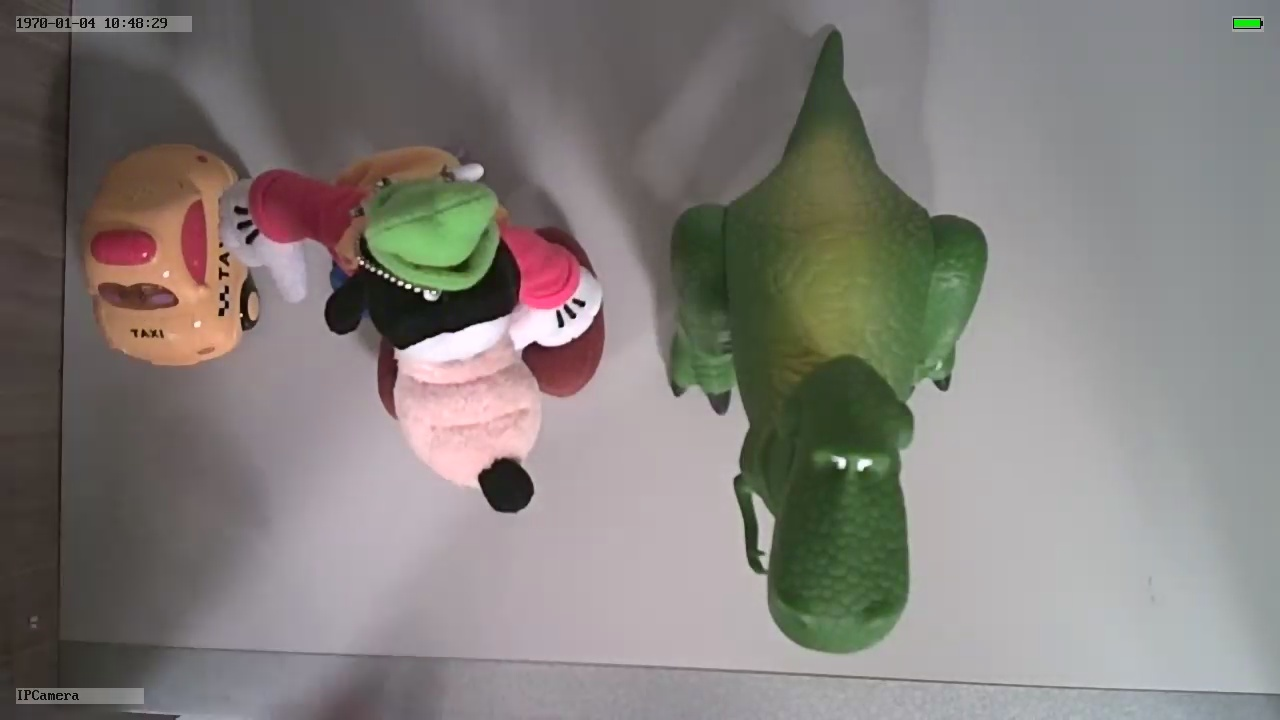goofy: (223, 142, 611, 513)
rex: (664, 126, 989, 655)
